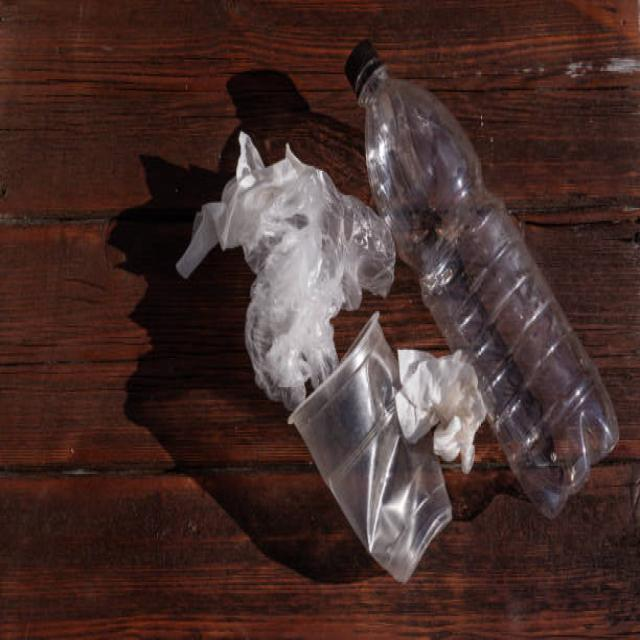plastic: (205, 147, 489, 545)
